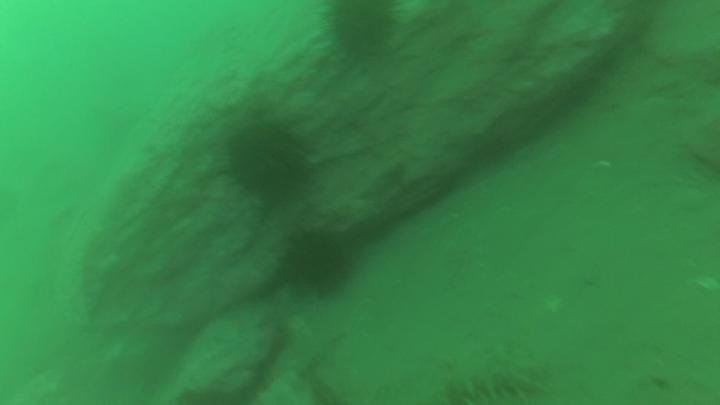echinus: (222, 115, 316, 204), (278, 227, 355, 295), (323, 1, 401, 62)
holothurian: (437, 347, 551, 405)
